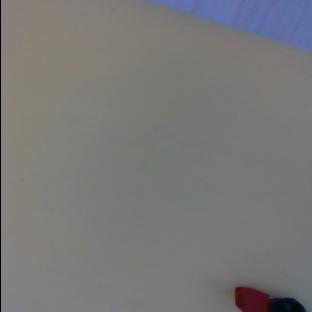part_1_good: (234, 287, 306, 312)
